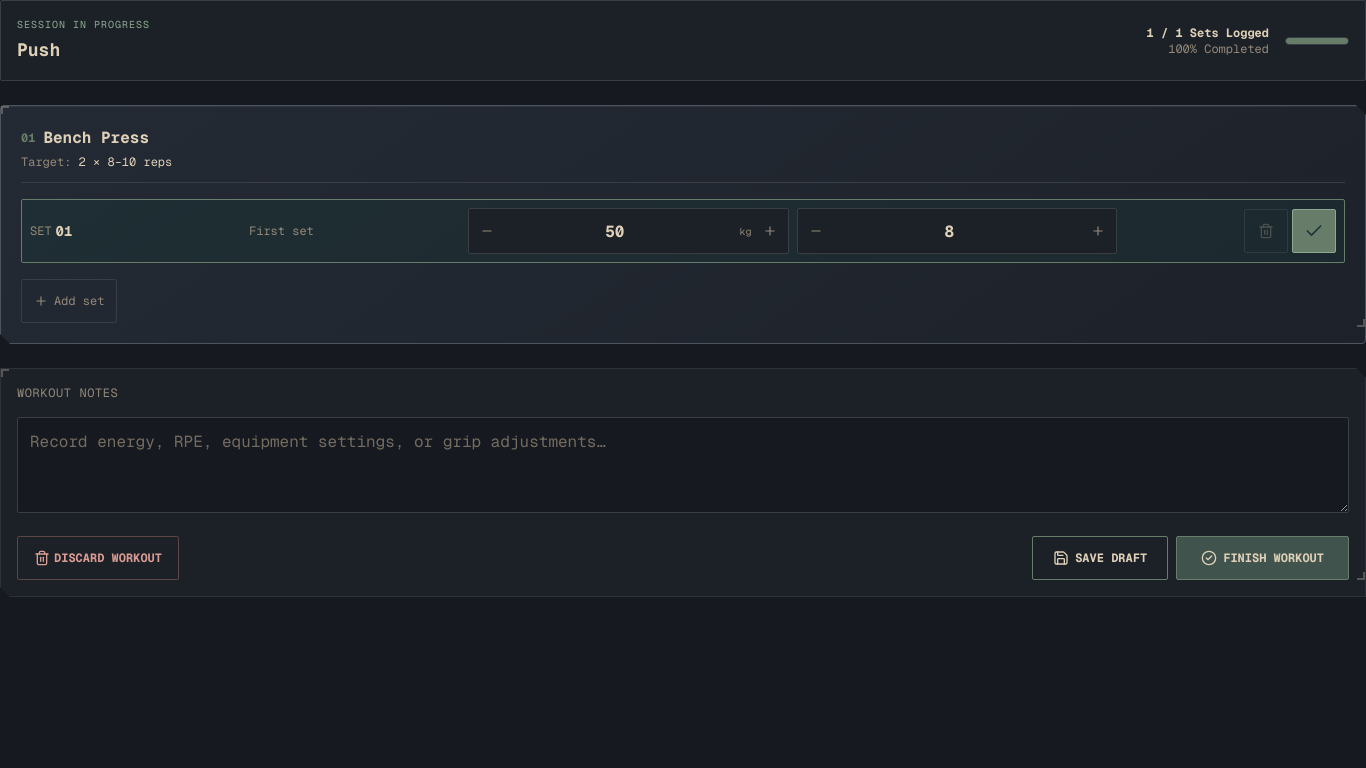
Test: persistent workout logging › completes the current draft and shows server-derived duration
What coordinates should you click on to do the following:
click the button "Finish workout"
I would click on:
 (1263, 558)
Its box is [1176, 536, 1349, 580].
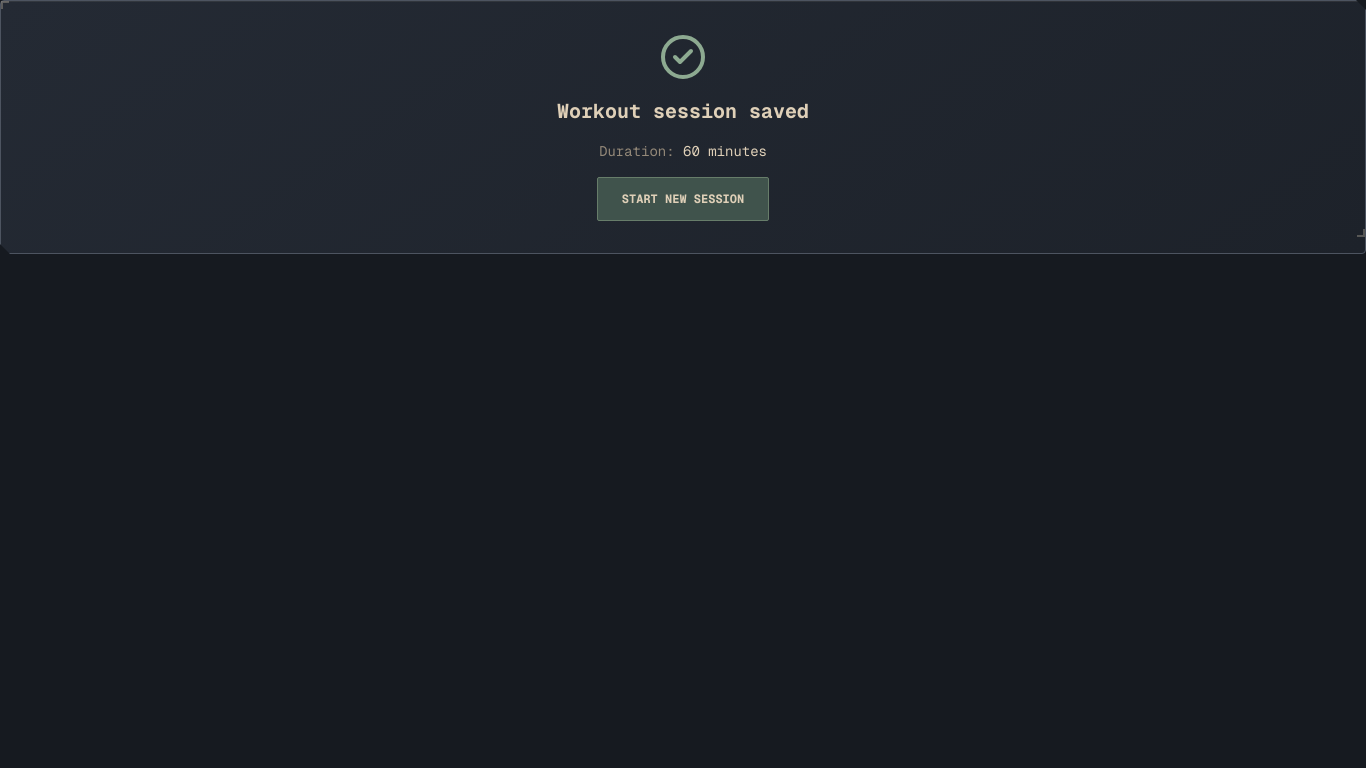
Expected: the heading "Workout session saved" is shown, [557, 98, 809, 124]
Expected: the text "60 minutes" is shown, [683, 142, 767, 160]
